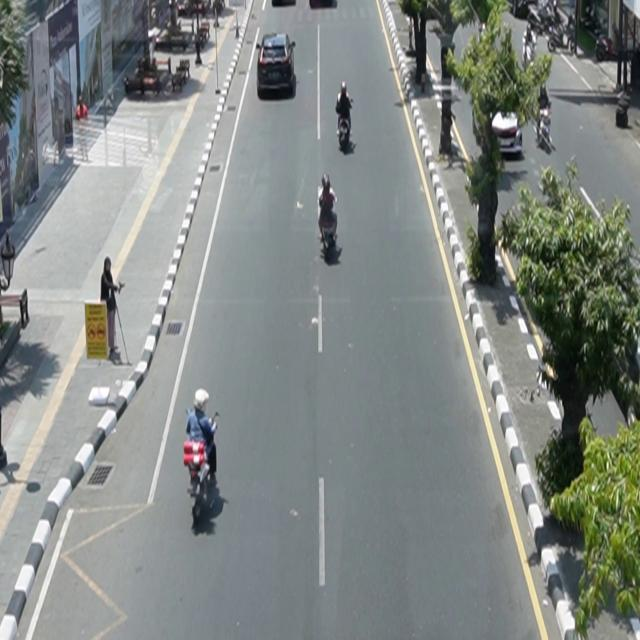car: (257, 33, 297, 98)
